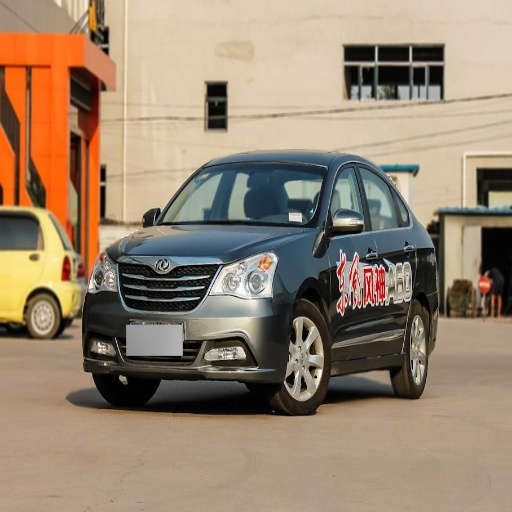front_bumper: (83, 254, 292, 383)
front_glass: (156, 162, 326, 225)
front_left_door: (326, 160, 381, 357)
